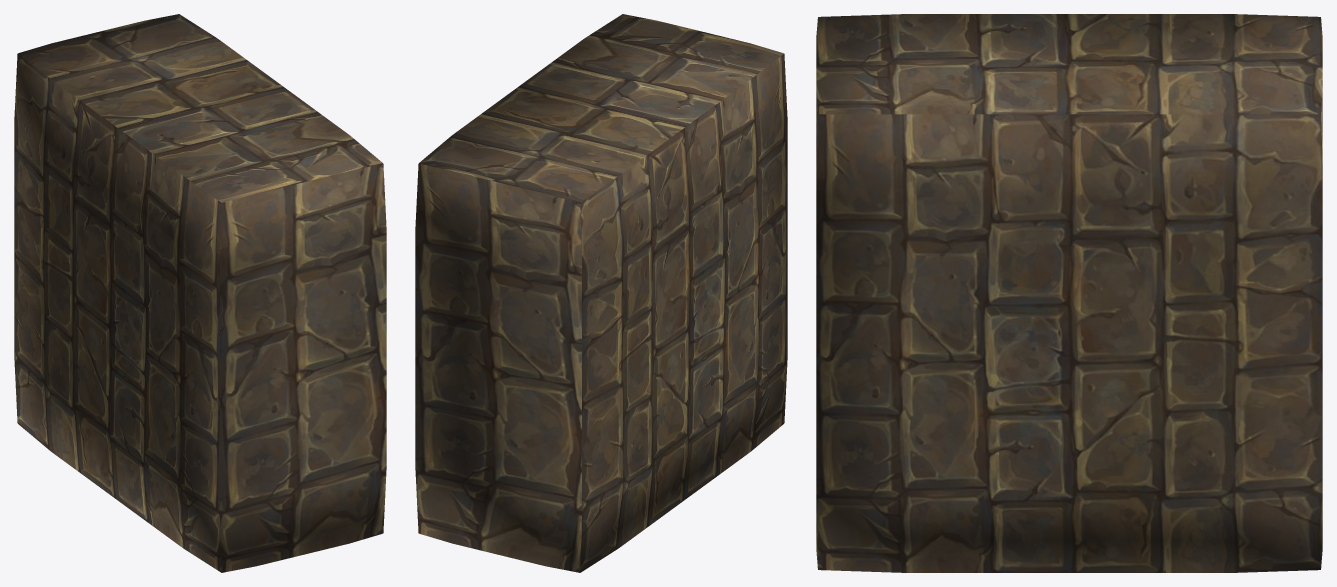
File: Wall-old.obj
The picture shows the model from 3 angles, left to right: view 1: azimuth 30°, elevation 25°; view 2: azimuth 150°, elevation 25°; view 3: azimuth 270°, elevation 25°; orthographic projection. The views are drawn at different scales.
Visible parts, largest first — view 1: Plane; view 2: Plane; view 3: Plane.
Boxes of the visible parts, x1=… form: Plane: x1=14, y1=14, x2=386, y2=572; Plane: x1=415, y1=14, x2=787, y2=572; Plane: x1=816, y1=14, x2=1322, y2=572.
Size of the model in its own units: 1 by 2 by 2.
Materials: 1 (1 with a texture image).
